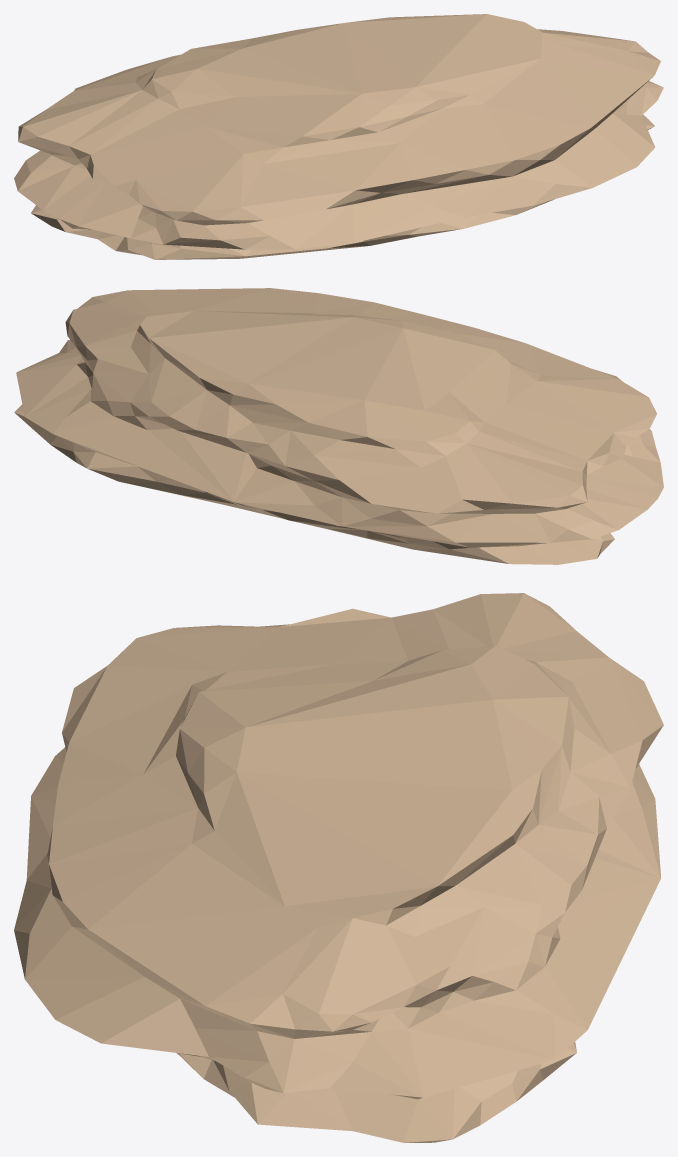
File: SM_DST_Rock_Slab_A.fbx
The picture shows the model from 3 angles, top to bottom: view 1: azimuth 30°, elevation 25°; view 2: azimuth 150°, elevation 25°; view 3: azimuth 270°, elevation 25°; orthographic projection. The views are drawn at different scales.
Visible parts, largest first — view 1: SM_DST_Rock_Slab_A; view 2: SM_DST_Rock_Slab_A; view 3: SM_DST_Rock_Slab_A.
Boxes of the visible parts, x1,y1,x2,y2 form: SM_DST_Rock_Slab_A: (14,14,663,259); SM_DST_Rock_Slab_A: (14,288,663,564); SM_DST_Rock_Slab_A: (14,593,663,1142).
Size of the model in its own units: 2.61 by 0.5103 by 1.56.
